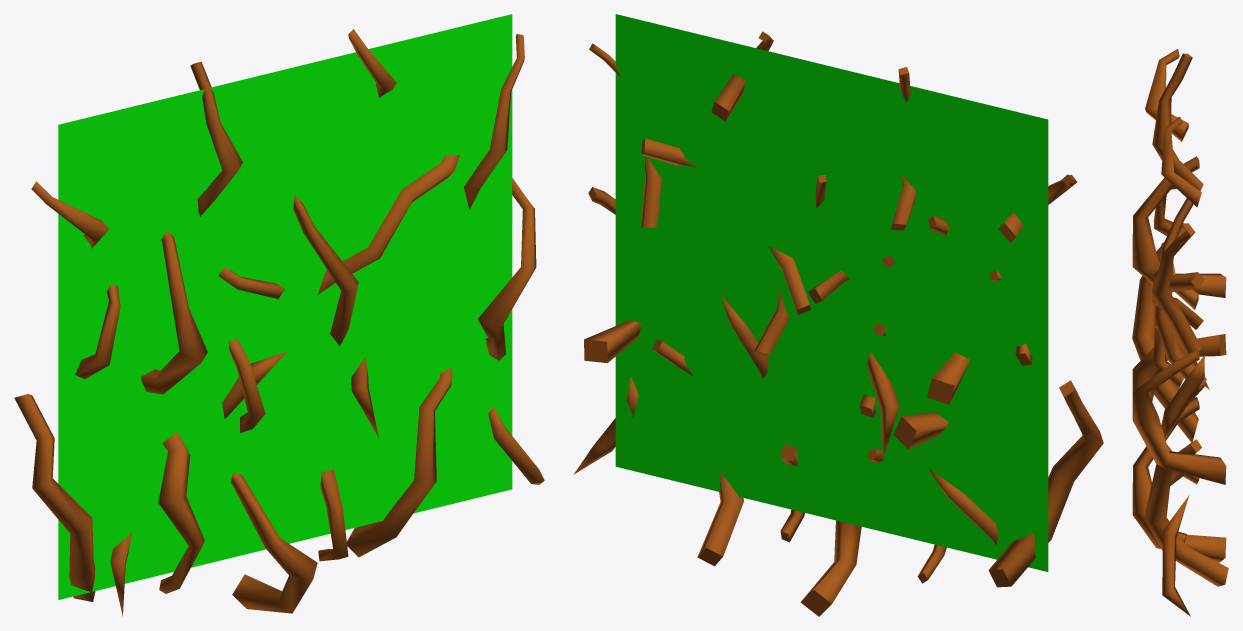
The model's file is Walls_NoTex 1.FBX.
3 views of the same model, side by side, from view 1: azimuth 30°, elevation 25°; view 2: azimuth 150°, elevation 25°; view 3: azimuth 270°, elevation 25° (orthographic). The views are drawn at different scales.
Parts seen in each view (by area): view 1: WholeWall_Test; view 2: WholeWall_Test; view 3: WholeWall_Test.
Part boxes in pixels (x1,y1,x2,y2): WholeWall_Test: (14, 14, 544, 616); WholeWall_Test: (573, 14, 1103, 616); WholeWall_Test: (1132, 49, 1228, 616).
Bounding box in the file's own units: 1171 × 222 × 1217.
